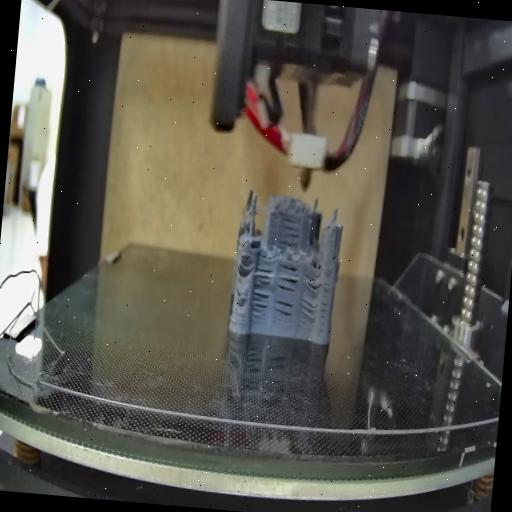cracks: (317, 248, 339, 338), (276, 210, 304, 250), (276, 260, 302, 294), (255, 258, 275, 293), (250, 292, 272, 322), (272, 296, 296, 323), (301, 269, 322, 295), (299, 299, 317, 324), (235, 252, 251, 278), (236, 281, 242, 303)
